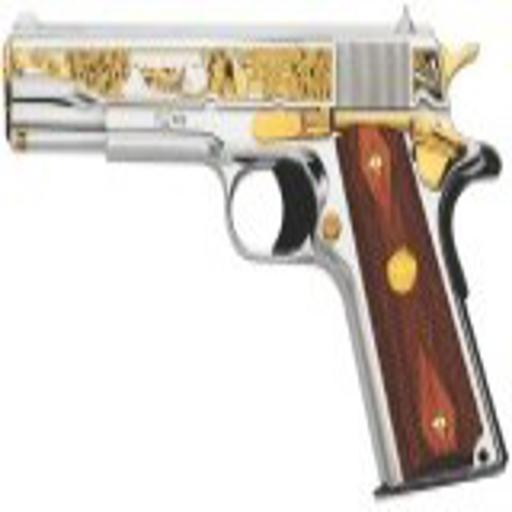Handgun: (2, 7, 511, 506)
